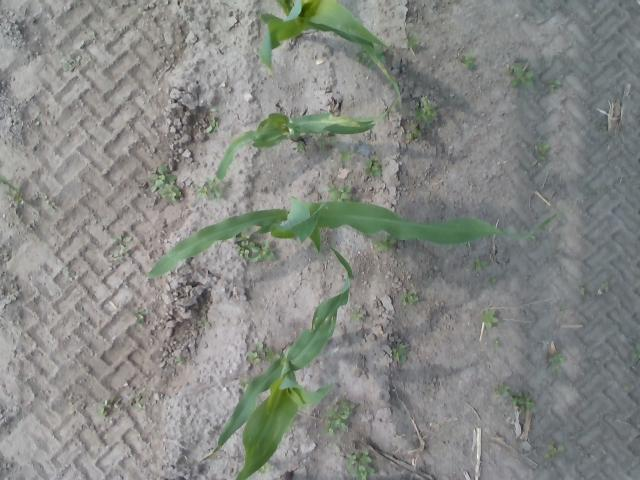Maize: (200, 246, 354, 480), (139, 200, 559, 276), (258, 0, 402, 108), (216, 112, 374, 180)
Weeds: (324, 402, 350, 433), (352, 451, 374, 480), (152, 168, 176, 192), (195, 178, 220, 201), (252, 243, 277, 264), (2, 177, 22, 203), (512, 68, 534, 88), (329, 184, 354, 200), (366, 153, 382, 176), (415, 101, 435, 118), (162, 185, 182, 200), (482, 310, 498, 328), (403, 289, 420, 305), (513, 395, 531, 410), (406, 124, 422, 138), (460, 54, 476, 68), (133, 310, 150, 323), (468, 258, 486, 270), (98, 400, 111, 416), (204, 120, 218, 134), (236, 242, 250, 256), (392, 350, 408, 362), (495, 383, 508, 397), (114, 234, 133, 243), (198, 315, 211, 328), (406, 36, 418, 50), (339, 150, 354, 161), (548, 353, 564, 363), (537, 141, 549, 154), (264, 348, 276, 360), (550, 78, 562, 90), (248, 352, 262, 362), (375, 240, 392, 248), (252, 340, 264, 349), (494, 338, 501, 346)
